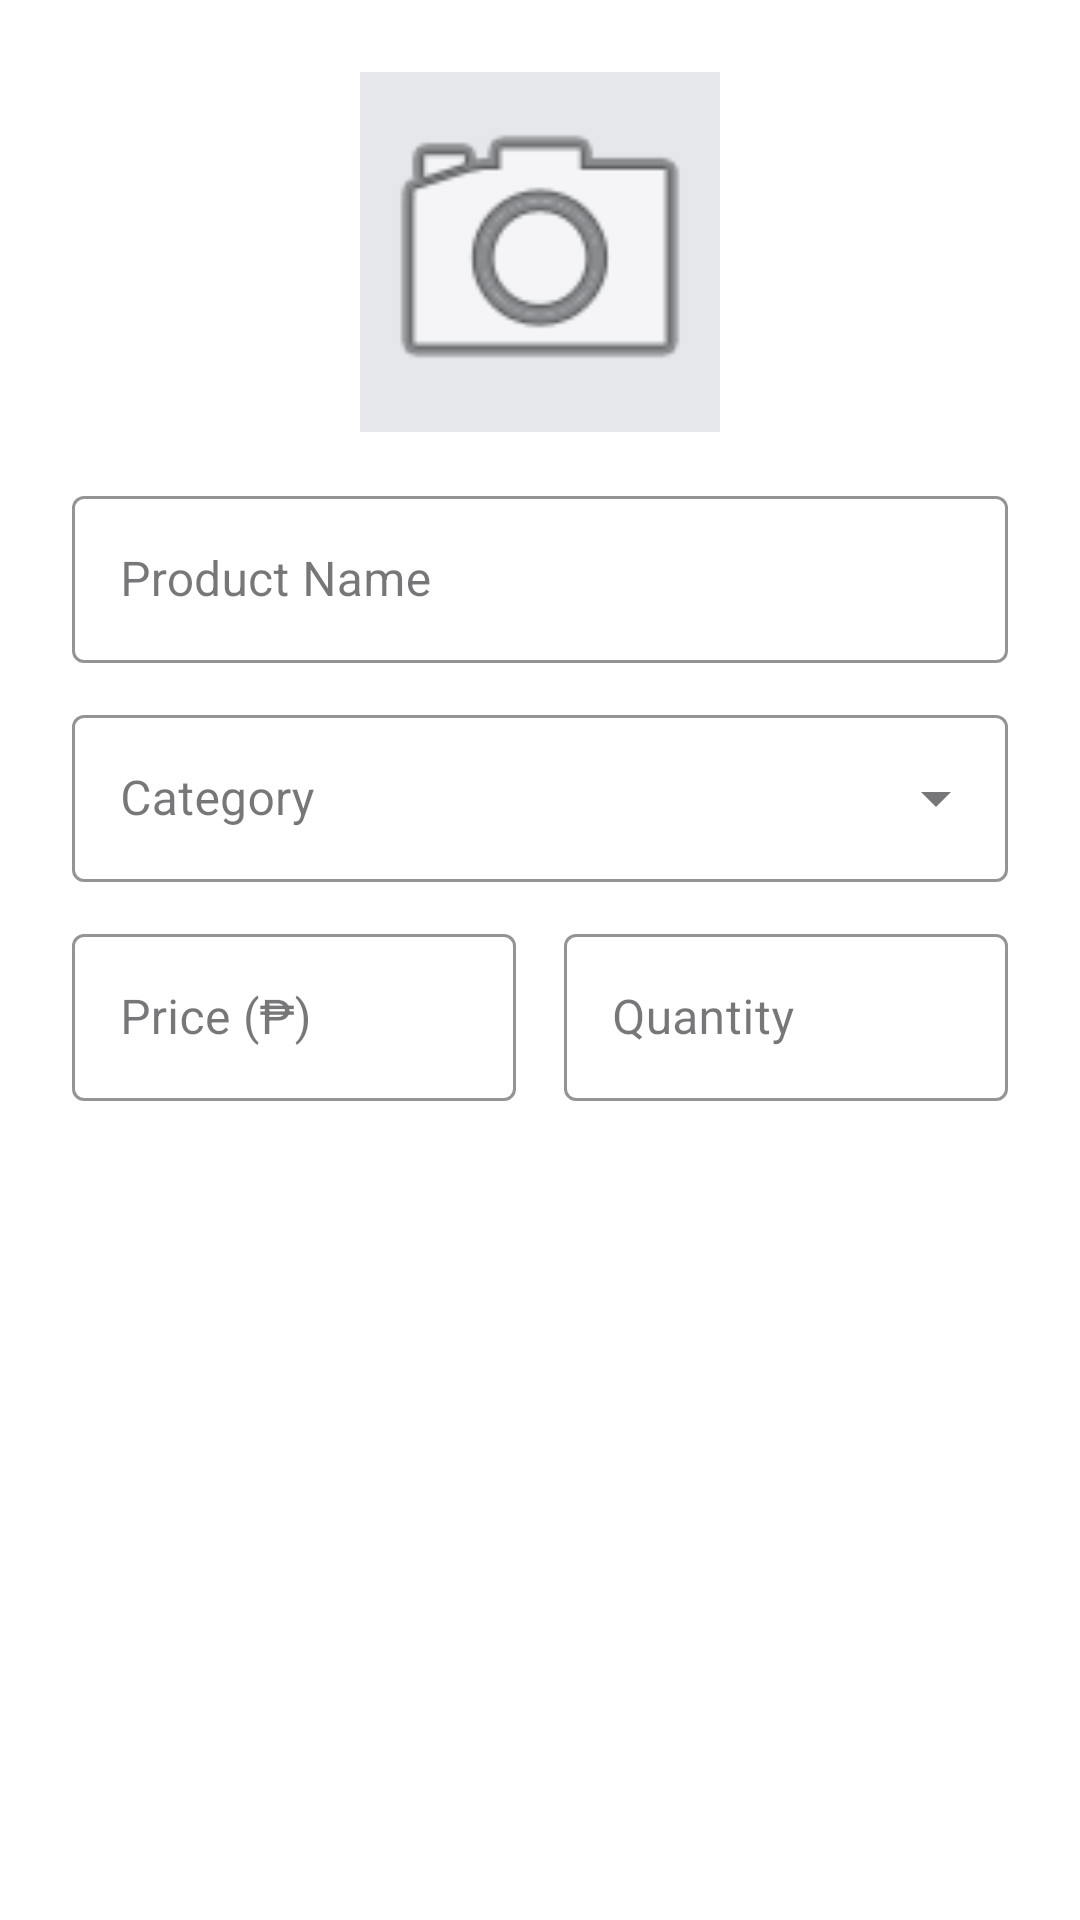

Locate icon controls on the screen. Image size 1080 × 1920, boxes as (x1, y1, x2, y2).
camera: (360, 72, 720, 432)
